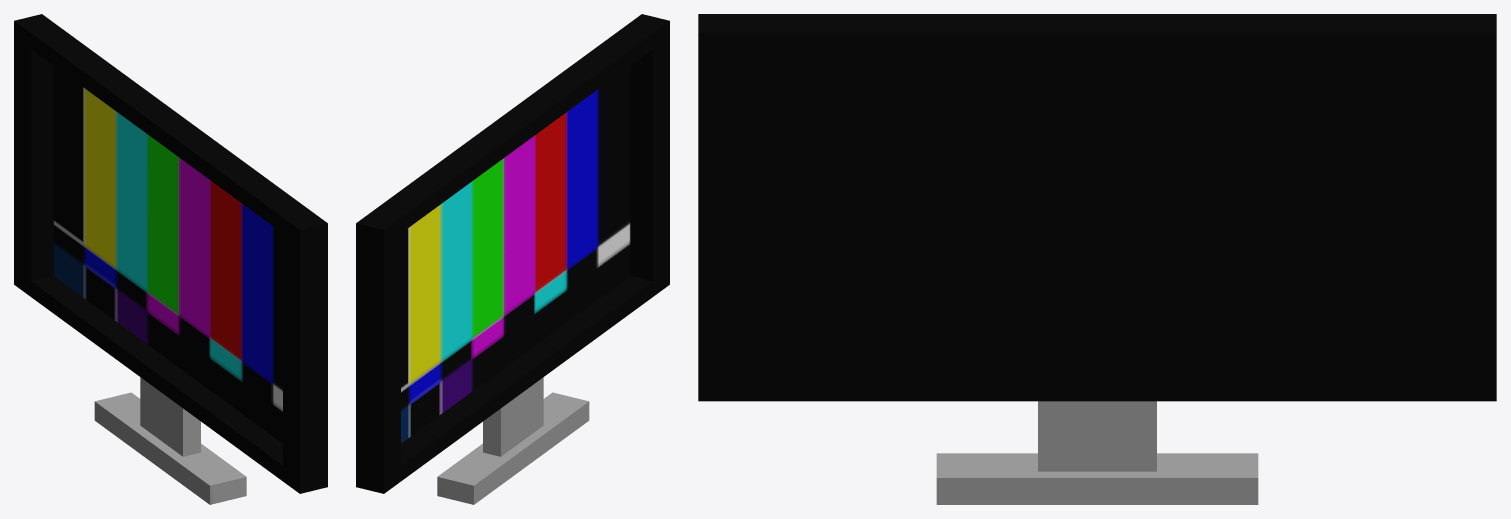
3 views of the same model, side by side, from view 1: azimuth 30°, elevation 25°; view 2: azimuth 150°, elevation 25°; view 3: azimuth 270°, elevation 25° (orthographic). The views are drawn at different scales.
Parts seen in each view (by area): view 1: Cube; view 2: Cube; view 3: Cube.
Boxes of the visible parts, x1,y1,x2,y2 form: Cube: [14, 14, 327, 504]; Cube: [356, 14, 669, 504]; Cube: [698, 14, 1496, 504].
Size of the model in its own units: 2.61 by 22.84 by 35.21.
